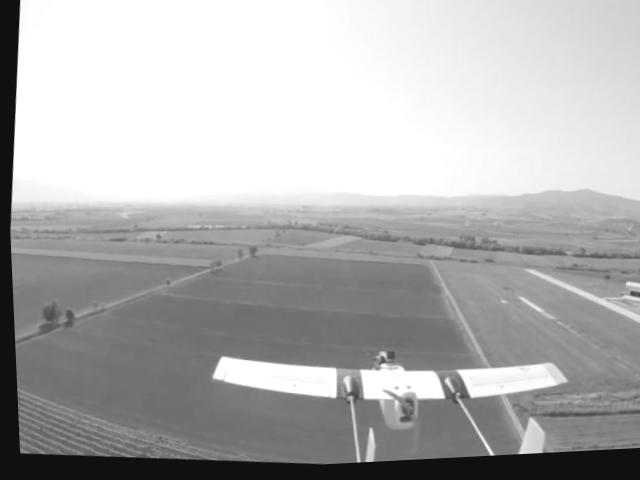hedef: (196, 316, 576, 473)
